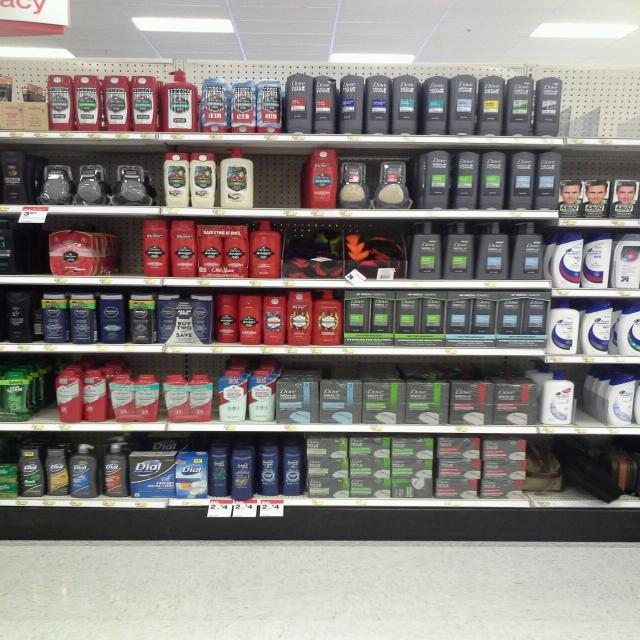empty: (562, 82, 640, 135), (244, 151, 313, 207), (566, 360, 606, 431), (10, 215, 53, 277), (103, 220, 146, 276), (25, 369, 63, 424)
